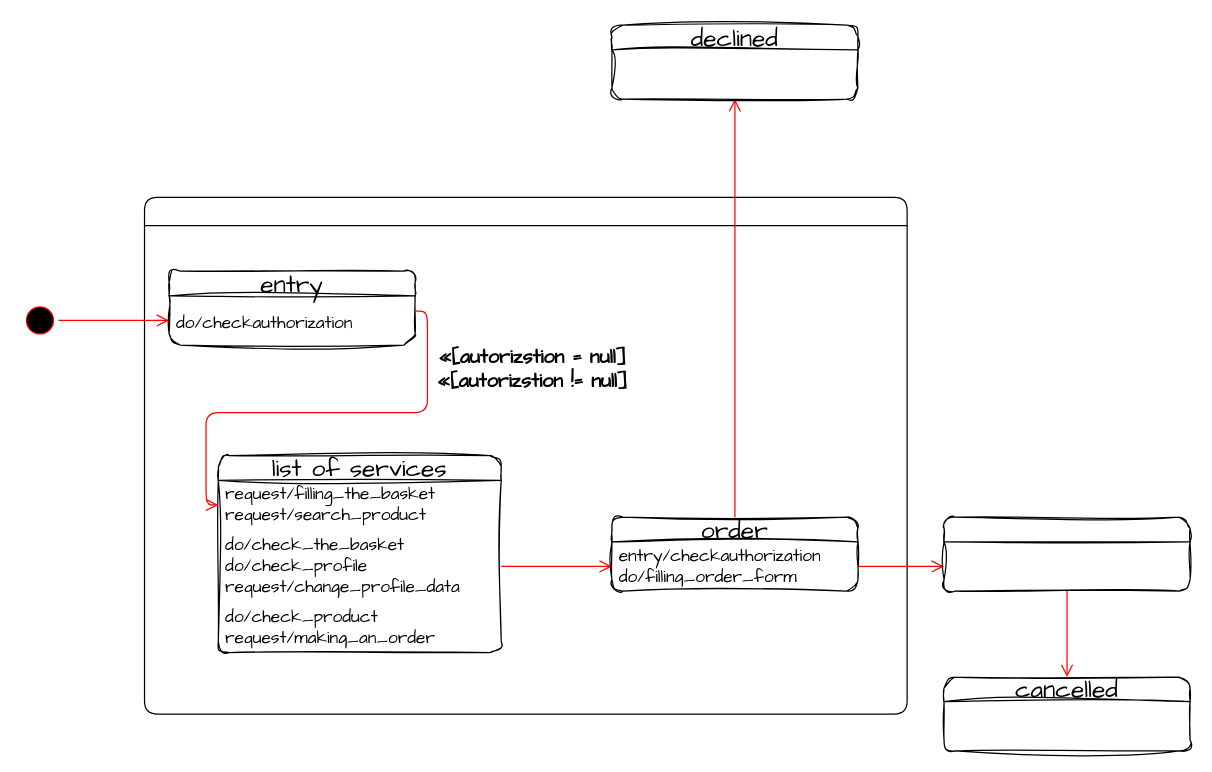
The diagram is 1212 pixels wide and 772 high, and some of its shapes have lost their labels. The shapes that lost their labels are listed below. From the top down, each one's box as (x1, y1, x2, y2) in pixels, then its label:
(143, 196, 907, 714): Cancellable
(943, 516, 1190, 591): delivery
